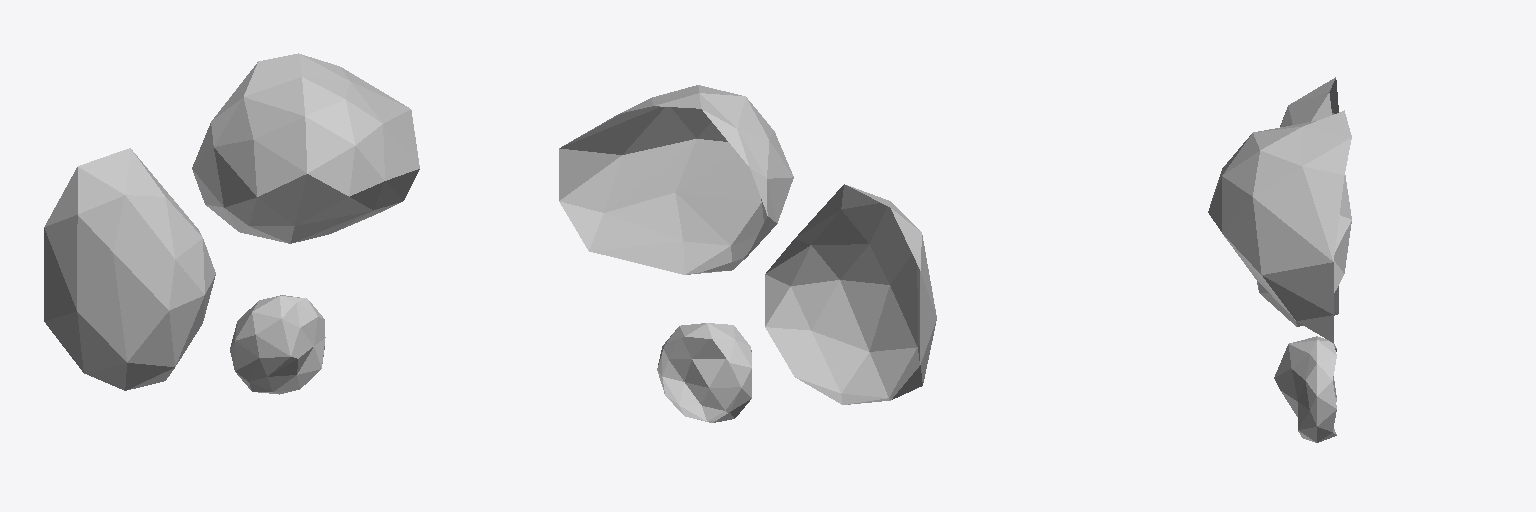
The model's file is rocks.obj.
3 renders of one model, left to right at view 1: azimuth 30°, elevation 25°; view 2: azimuth 150°, elevation 25°; view 3: azimuth 270°, elevation 25°, orthographic.
Visible parts, largest first — view 1: Icosphere.001, Icosphere, Icosphere.002; view 2: Icosphere.001, Icosphere, Icosphere.002; view 3: Icosphere.001, Icosphere.002, Icosphere.
Part boxes in pixels (bbox=[...]): Icosphere.001: bbox=[192, 53, 419, 243]; Icosphere: bbox=[44, 148, 215, 390]; Icosphere.002: bbox=[230, 295, 325, 394]; Icosphere.001: bbox=[559, 85, 793, 274]; Icosphere: bbox=[765, 184, 936, 404]; Icosphere.002: bbox=[657, 323, 751, 422]; Icosphere.001: bbox=[1208, 110, 1351, 342]; Icosphere.002: bbox=[1274, 336, 1336, 442]; Icosphere: bbox=[1257, 77, 1338, 326].
Size of the model in its own units: 0.7884 by 0.6717 by 0.2699.